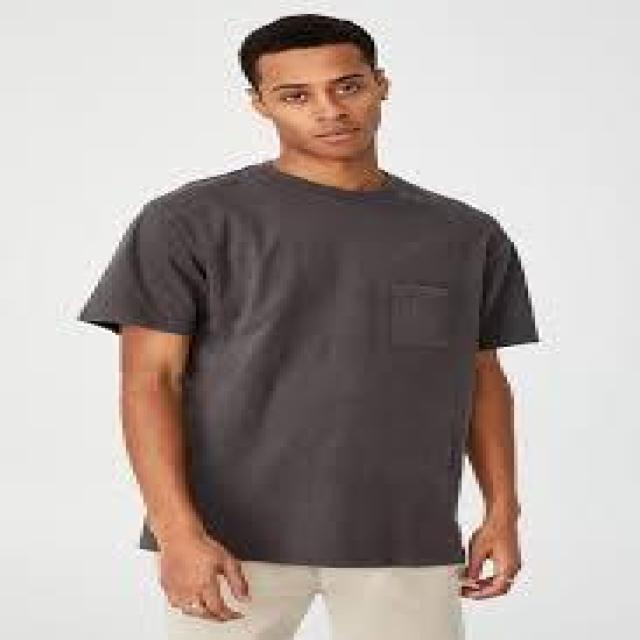Tshirt: (72, 157, 544, 567)
pants: (159, 556, 474, 640)
